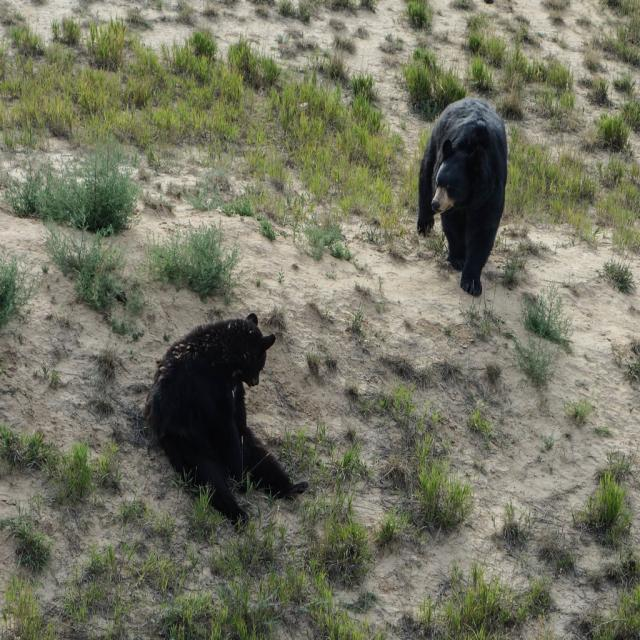Buffalo: (140, 314, 310, 526), (417, 96, 509, 296)
